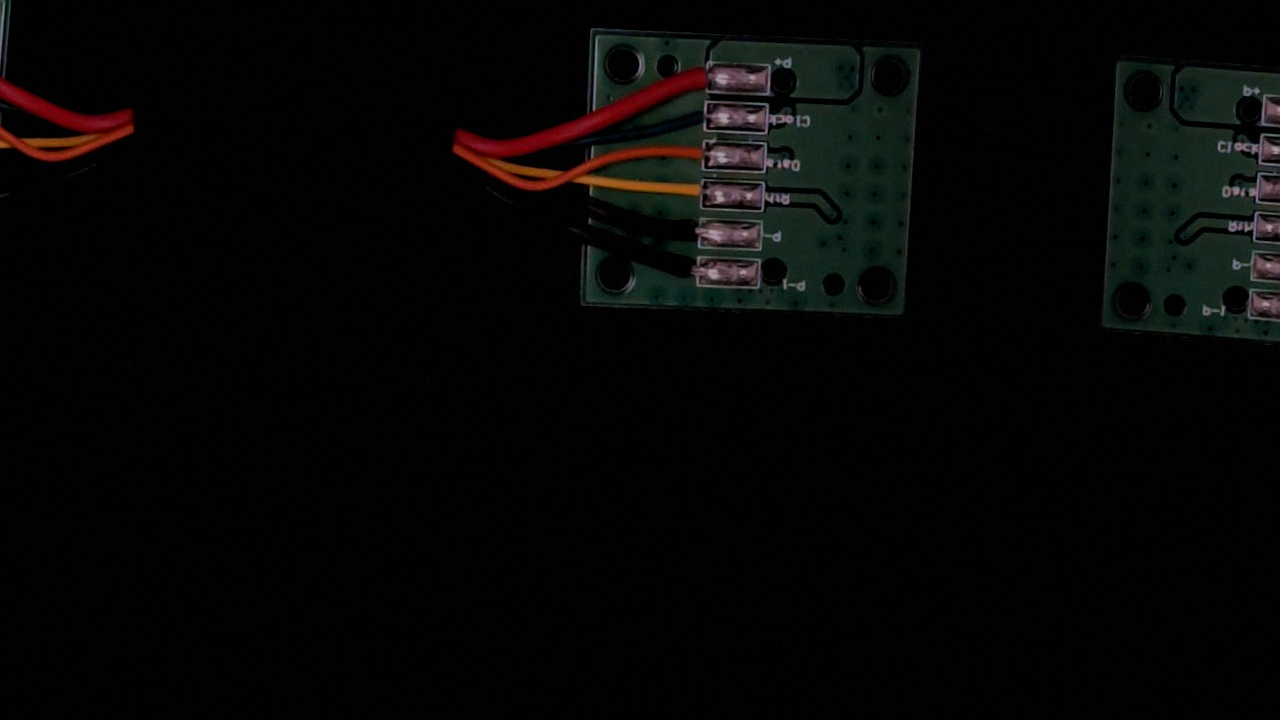Black: (655, 213, 717, 249)
Black1: (652, 252, 714, 288)
Green: (672, 96, 722, 133)
Orange: (667, 134, 721, 169)
Red: (675, 57, 725, 94)
Yellow: (662, 171, 718, 213)
